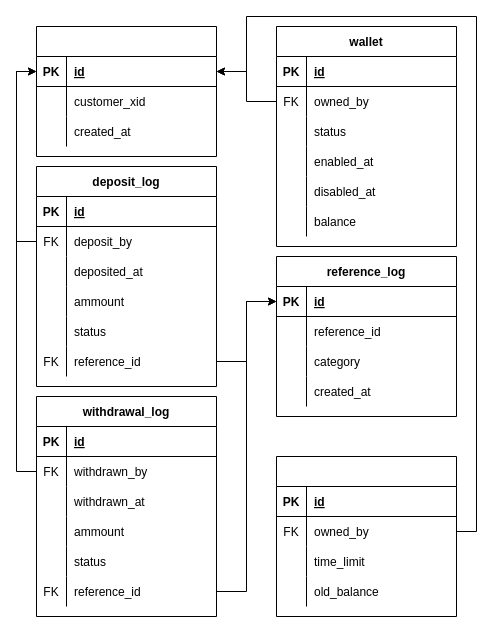
This 493x633 diagram has some shape labels left out. The shapes that lost their labels are listed below. From the top down, each one's box as (x1, y1, x2, y2) in pixels, then its label:
(36, 26, 216, 156): wallet_user
(276, 456, 456, 616): delay_update_balance
